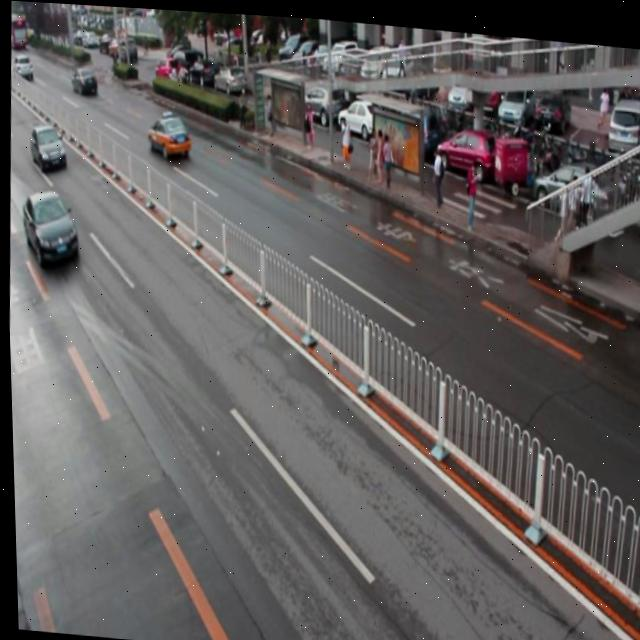car: (18, 186, 79, 268), (144, 109, 190, 158), (27, 122, 68, 174), (68, 63, 98, 95)
